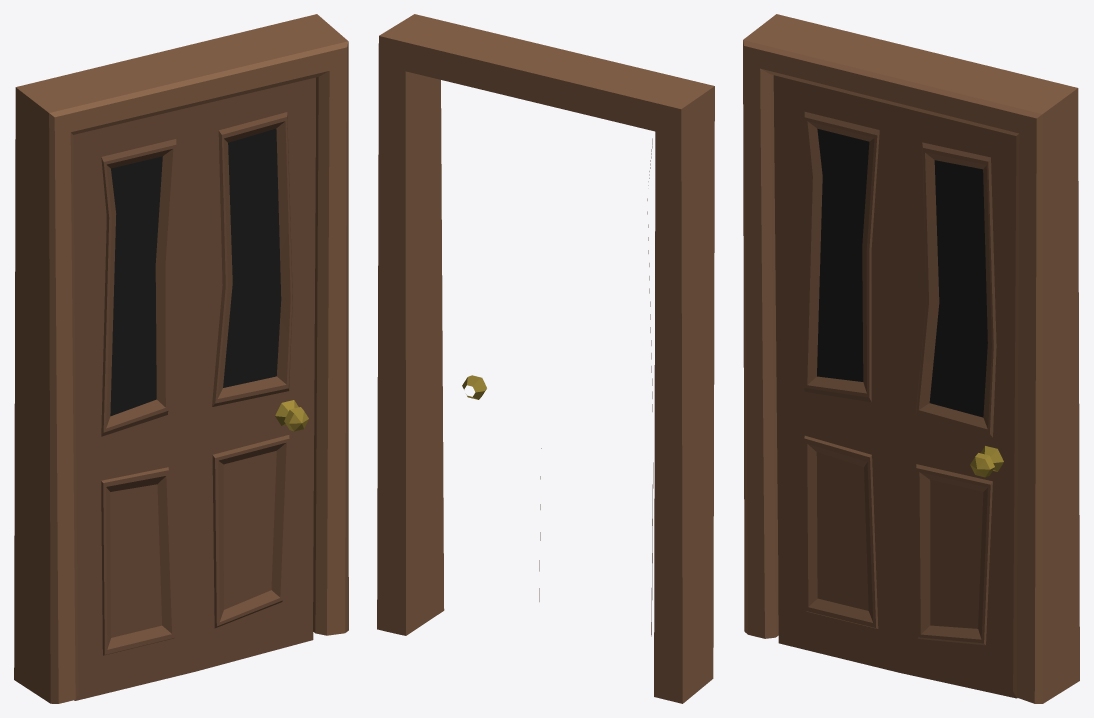
The model's file is SM_Prop_Door_02.glb.
3 views of the same model, side by side, from view 1: azimuth 30°, elevation 25°; view 2: azimuth 150°, elevation 25°; view 3: azimuth 330°, elevation 25° (orthographic).
Parts seen in each view (by area): view 1: SM_Prop_Door_02; view 2: SM_Prop_Door_02; view 3: SM_Prop_Door_02.
Part boxes in pixels (left/top/right/bottom): SM_Prop_Door_02: left=14, top=14, right=348, bottom=703; SM_Prop_Door_02: left=377, top=14, right=714, bottom=703; SM_Prop_Door_02: left=743, top=14, right=1079, bottom=703.
Bounding box in the file's own units: 0.013 × 0.0244 × 0.00317.
